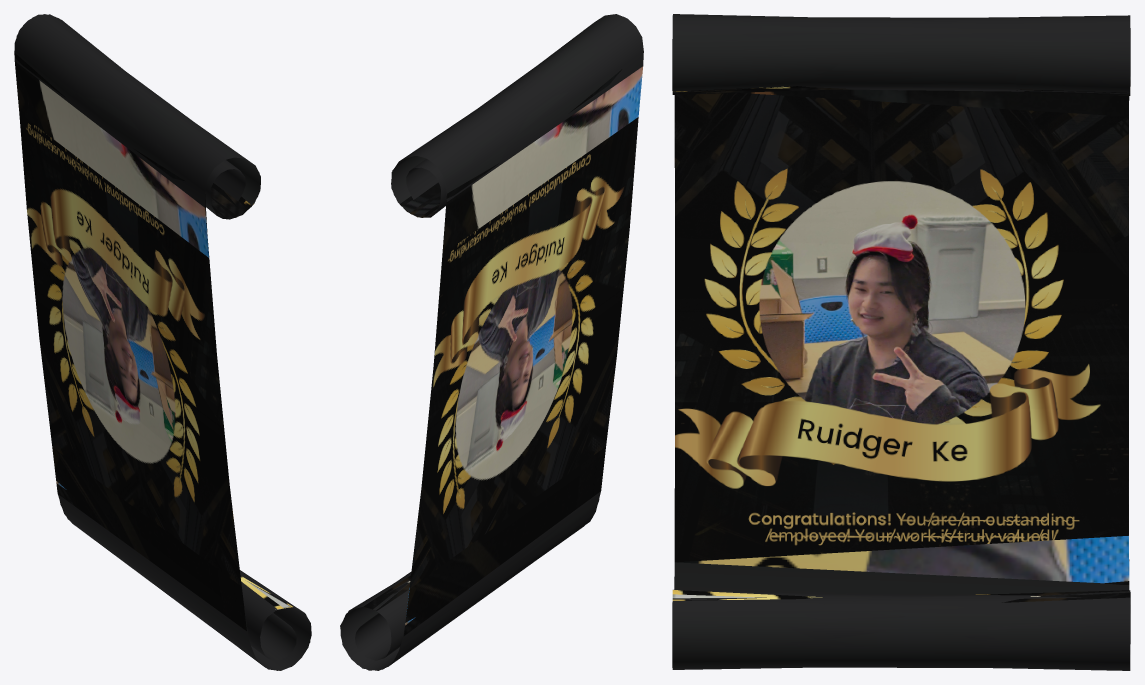
File: RuidgerPoster.fbx
The picture shows the model from 3 angles, left to right: view 1: azimuth 30°, elevation 25°; view 2: azimuth 150°, elevation 25°; view 3: azimuth 270°, elevation 25°; orthographic projection. The views are drawn at different scales.
Visible parts, largest first — view 1: Paper; view 2: Paper; view 3: Paper.
Part boxes in pixels (x1=…): Paper: x1=14, y1=14, x2=311, y2=670; Paper: x1=340, y1=14, x2=643, y2=670; Paper: x1=672, y1=14, x2=1130, y2=670.
Bounding box in the file's own units: 1512 × 6949 × 4656.
